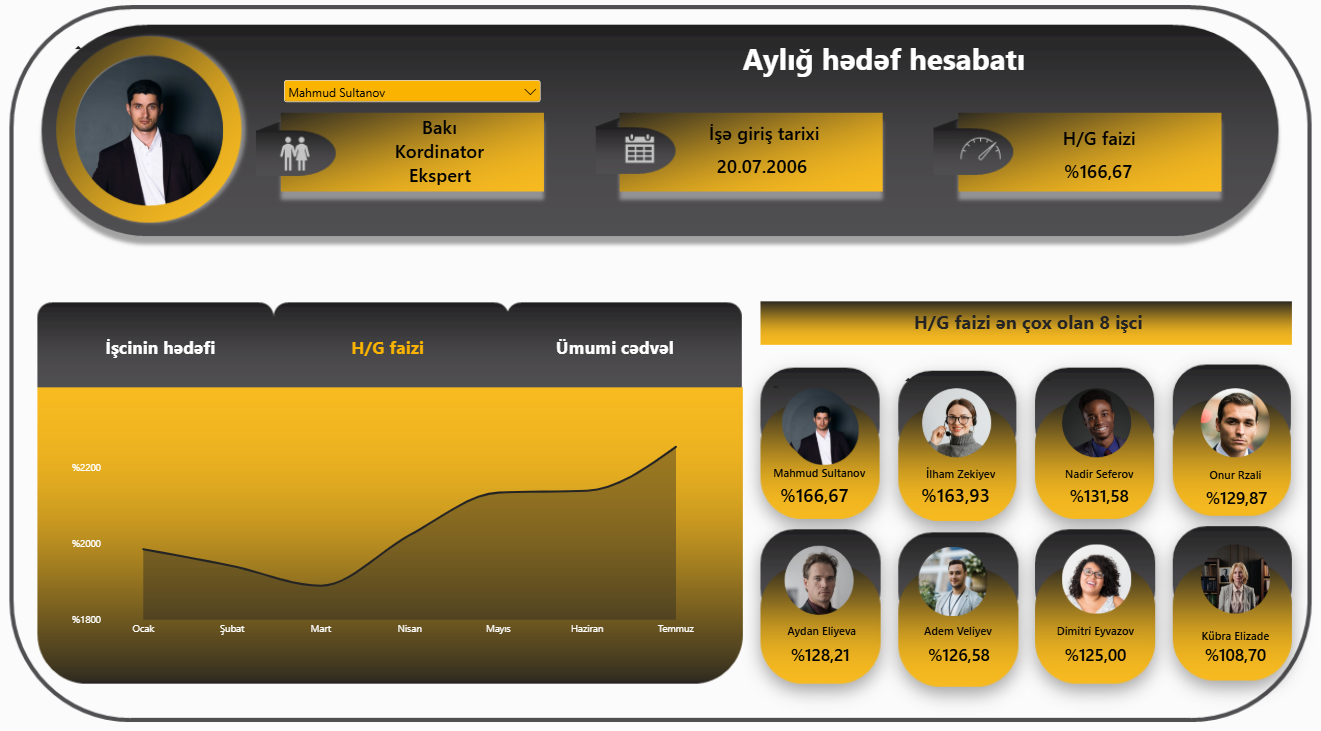

The dashboard page shown, as its layout file describes it:
{"tool":"powerbi","page":{"name":"1. sayfa","canvas":[1920,1080],"ordinal":0},"visuals":[{"type":"slicer","fields":{"Values":["son_dönem.Işci adı"]},"box":[411.7,121.4,380.8,39.1],"z":0},{"type":"tableEx","fields":{"Values":["son_dönem.Foto Url"]},"box":[91.2,39.4,300,300],"z":1000},{"type":"cardVisual","fields":{"Data":["Min(son_dönem.Yer)"]},"box":[489.5,175,304.1,33.3],"z":2000},{"type":"cardVisual","fields":{"Data":["Min(son_dönem.Vezife)"]},"box":[489.5,208.3,304.1,39.6],"z":3000},{"type":"cardVisual","fields":{"Data":["Min(son_dönem.Ünvanı)"]},"box":[490,247.5,302.5,30],"z":4000},{"type":"textbox","box":[960.2,185.4,299.9,39.6],"z":5000},{"type":"cardVisual","fields":{"Data":["Min(son_dönem.İşe giriş vaxtı)"]},"box":[956,229.1,304.1,39.6],"z":6000},{"type":"cardVisual","fields":{"Data":["Sum(son_dönem.H/G)"]},"box":[1442.6,237.5,304.1,39.6],"z":7000},{"type":"textbox","box":[1446.7,191.7,299.9,39.6],"z":8000},{"type":"textbox","box":[1110,457.5,767.5,47.5],"z":9000},{"type":"tableEx","fields":{"Values":["Olculer.Birinci_foto"]},"box":[1090,520,202.5,175],"z":10000},{"type":"cardVisual","fields":{"Data":["Olculer.Birinci_isim"]},"box":[1090,665,202.5,60],"z":11000},{"type":"cardVisual","fields":{"Data":["Olculer.HG"]},"box":[1107.5,705,152.5,40],"z":12000},{"type":"tableEx","fields":{"Values":["Olculer.Birinci_foto"]},"box":[1100,530,202.5,175],"z":13000},{"type":"tableEx","fields":{"Values":["Olculer.Ikinci_foto"]},"box":[1292.5,520,202.5,175],"z":14000},{"type":"cardVisual","fields":{"Data":["Olculer.HG2"]},"box":[1302.5,705,170,40],"z":15000},{"type":"cardVisual","fields":{"Data":["Olculer.2_isim"]},"box":[1310,670,170,50],"z":16000},{"type":"tableEx","fields":{"Values":["Olculer.Ucuncu_foto"]},"box":[1495,520,200,175],"z":17000},{"type":"cardVisual","fields":{"Data":["Olculer.HG3"]},"box":[1517.5,710,155,35],"z":18000},{"type":"cardVisual","fields":{"Data":["Olculer.3_isim"]},"box":[1517.5,670,155,50],"z":19000},{"type":"tableEx","fields":{"Values":["Olculer.dorduncu_foto"]},"box":[1695,520,200,175],"z":20000},{"type":"cardVisual","fields":{"Data":["Olculer.4_isim"]},"box":[1712.5,680,162.5,32.5],"z":21000},{"type":"cardVisual","fields":{"Data":["Olculer.HG4"]},"box":[1725,712.5,140,35],"z":22000},{"type":"tableEx","fields":{"Values":["Olculer.besinci_foto"]},"box":[1092.5,747.5,200,175],"z":23000},{"type":"cardVisual","fields":{"Data":["Olculer.5_isim"]},"box":[1112.5,907.5,162.5,32.5],"z":24000},{"type":"cardVisual","fields":{"Data":["Olculer.HG5"]},"box":[1122.5,940,140,35],"z":25000},{"type":"tableEx","fields":{"Values":["Olculer.altinci_foto"]},"box":[1287.5,750,200,175],"z":26000},{"type":"cardVisual","fields":{"Data":["Olculer.6_isim"]},"box":[1310,907.5,162.5,32.5],"z":27000},{"type":"cardVisual","fields":{"Data":["Olculer.HG6"]},"box":[1322.5,940,140,35],"z":28000},{"type":"tableEx","fields":{"Values":["Olculer.yeddinci_foto"]},"box":[1495,745,200,175],"z":29000},{"type":"cardVisual","fields":{"Data":["Olculer.7_isim"]},"box":[1510,907.5,162.5,32.5],"z":30000},{"type":"cardVisual","fields":{"Data":["Olculer.HG7"]},"box":[1510,940,162.5,35],"z":31000},{"type":"tableEx","fields":{"Values":["Olculer.seggizci_foto"]},"box":[1696,746,200,175],"z":32000},{"type":"cardVisual","fields":{"Data":["Olculer.8_isim"]},"box":[1712,908,162,42],"z":33000},{"type":"cardVisual","fields":{"Data":["Olculer.HG8"]},"box":[1712,940,162.5,35],"z":34000},{"type":"stackedAreaChart","fields":{"Category":["tüm_dönem_hg.Dönem.Varyasyon.Tarih Hiyerarşisi.Ay"],"Y":["Sum(tüm_dönem_hg.H/G)"]},"box":[92,608,958,342],"z":36000},{"type":"bookmarkNavigator","box":[76,482,980,62],"z":39000},{"type":"textbox","box":[872,66,824,74],"z":39001}]}

Visuals, with their boxes in screenshot pixels (x1, y1, x2, y2), scaled from the page's 1920x1080 canvas onto the 1321x731 screenshot:
slicer - son_dönem.Işci adı: locate(283, 82, 545, 109)
tableEx - son_dönem.Foto Url: locate(63, 27, 269, 230)
cardVisual - Min(son_dönem.Yer): locate(337, 118, 546, 141)
cardVisual - Min(son_dönem.Vezife): locate(337, 141, 546, 168)
cardVisual - Min(son_dönem.Ünvanı): locate(337, 168, 545, 188)
textbox: locate(661, 125, 867, 152)
cardVisual - Min(son_dönem.İşe giriş vaxtı): locate(658, 155, 867, 182)
cardVisual - Sum(son_dönem.H/G): locate(993, 161, 1202, 188)
textbox: locate(995, 130, 1202, 157)
textbox: locate(764, 310, 1292, 342)
tableEx - Olculer.Birinci_foto: locate(750, 352, 889, 470)
cardVisual - Olculer.Birinci_isim: locate(750, 450, 889, 491)
cardVisual - Olculer.HG: locate(762, 477, 867, 504)
tableEx - Olculer.Birinci_foto: locate(757, 359, 896, 477)
tableEx - Olculer.Ikinci_foto: locate(889, 352, 1029, 470)
cardVisual - Olculer.HG2: locate(896, 477, 1013, 504)
cardVisual - Olculer.2_isim: locate(901, 453, 1018, 487)
tableEx - Olculer.Ucuncu_foto: locate(1029, 352, 1166, 470)
cardVisual - Olculer.HG3: locate(1044, 481, 1151, 504)
cardVisual - Olculer.3_isim: locate(1044, 453, 1151, 487)
tableEx - Olculer.dorduncu_foto: locate(1166, 352, 1304, 470)
cardVisual - Olculer.4_isim: locate(1178, 460, 1290, 482)
cardVisual - Olculer.HG4: locate(1187, 482, 1283, 506)
tableEx - Olculer.besinci_foto: locate(752, 506, 889, 624)
cardVisual - Olculer.5_isim: locate(765, 614, 877, 636)
cardVisual - Olculer.HG5: locate(772, 636, 869, 660)
tableEx - Olculer.altinci_foto: locate(886, 508, 1023, 626)
cardVisual - Olculer.6_isim: locate(901, 614, 1013, 636)
cardVisual - Olculer.HG6: locate(910, 636, 1006, 660)
tableEx - Olculer.yeddinci_foto: locate(1029, 504, 1166, 623)
cardVisual - Olculer.7_isim: locate(1039, 614, 1151, 636)
cardVisual - Olculer.HG7: locate(1039, 636, 1151, 660)
tableEx - Olculer.seggizci_foto: locate(1167, 505, 1304, 623)
cardVisual - Olculer.8_isim: locate(1178, 615, 1289, 643)
cardVisual - Olculer.HG8: locate(1178, 636, 1290, 660)
stackedAreaChart - tüm_dönem_hg.Dönem.Varyasyon.Tarih Hiyerarşisi.Ay x Sum(tüm_dönem_hg.H/G): locate(63, 412, 722, 643)
bookmarkNavigator: locate(52, 326, 727, 368)
textbox: locate(600, 45, 1167, 95)
